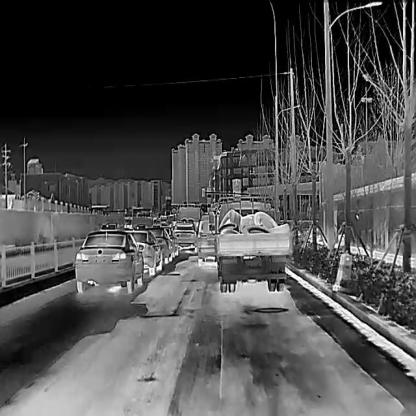car: (75, 228, 144, 294), (125, 229, 163, 276), (146, 224, 174, 264), (172, 216, 199, 254), (156, 223, 178, 256)
truck: (207, 192, 293, 292), (198, 208, 219, 263)
